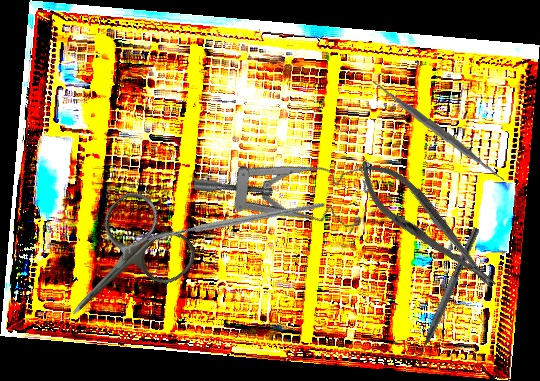Chopper: (406, 223, 480, 366)
Hook Surgical: (126, 147, 327, 309)
Iris Scissors: (37, 184, 204, 349)
Needle Holder: (345, 146, 509, 305)
Spatula Surgical: (372, 66, 505, 196)
Speculum: (188, 102, 385, 268)
